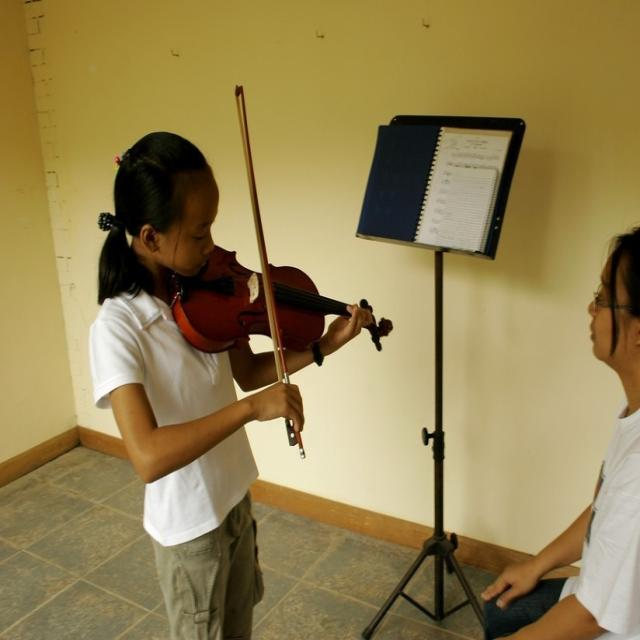violin: (171, 241, 395, 352)
